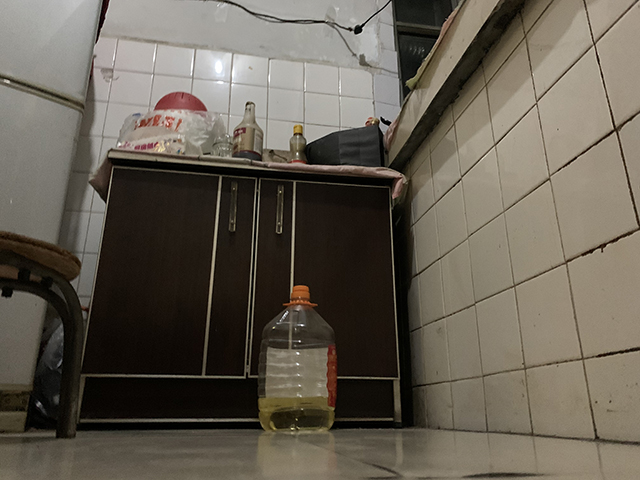cabinet: (73, 147, 409, 433)
stool: (1, 228, 86, 440)
